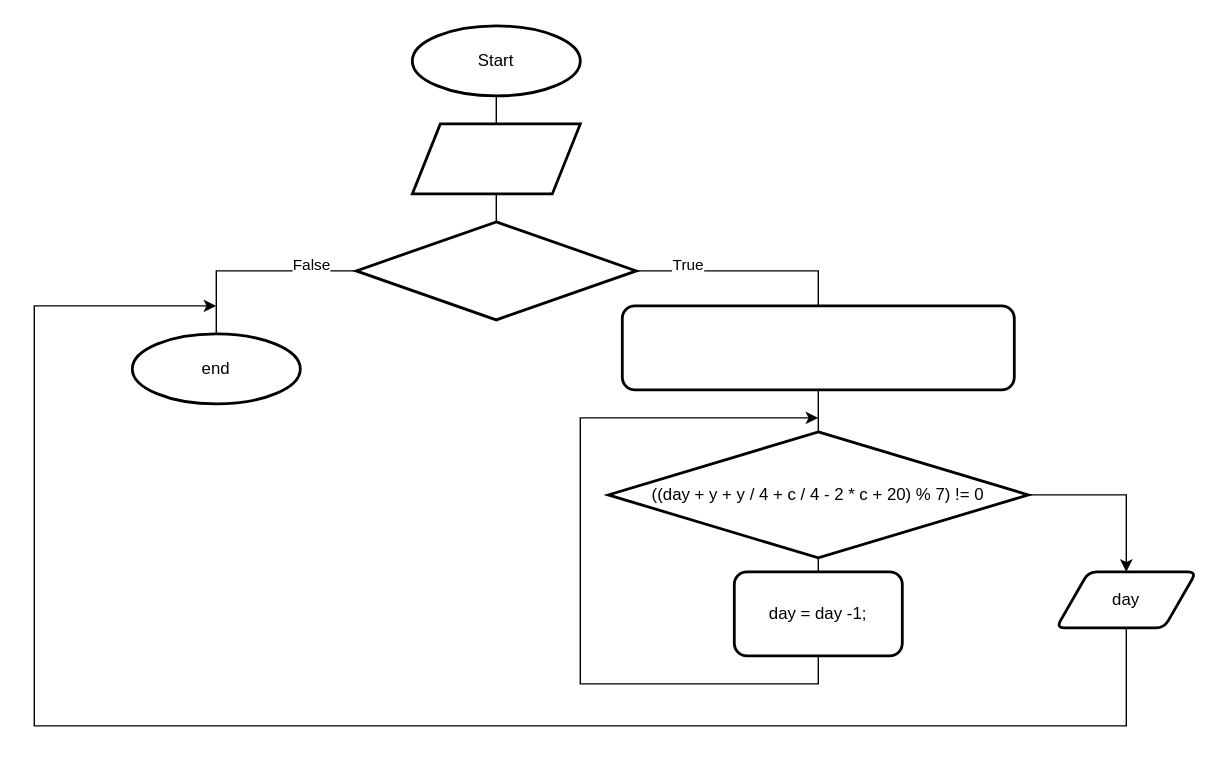
This 1222x762 diagram has some shape labels left out. The shapes that lost their labels are listed below. From the top down, each one's centre as x and y in pixels, then its label:
At [495,158]: "day,year,c,y є N".
At [495,270]: "year є (1582; 4902)".
At [817,347]: "c = year / 100; y = year - c*100; day = 31;".
